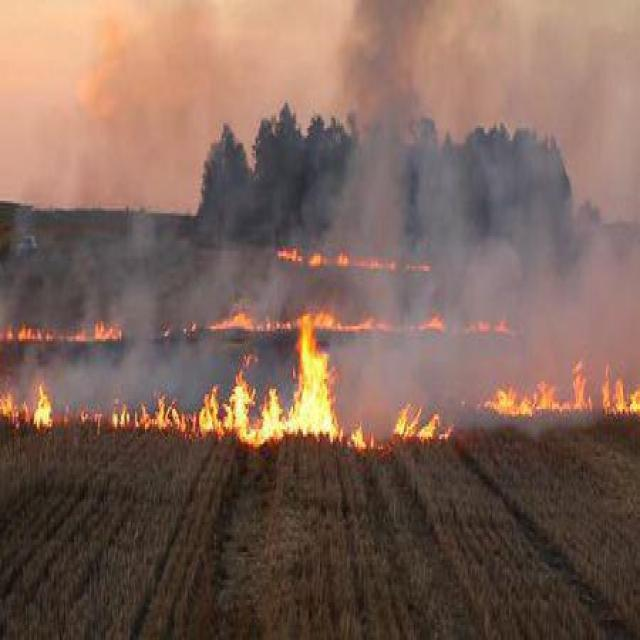Fire: (1, 308, 507, 339), (215, 322, 342, 442), (1, 388, 222, 426), (266, 228, 432, 278), (490, 374, 637, 414), (356, 413, 450, 444)
